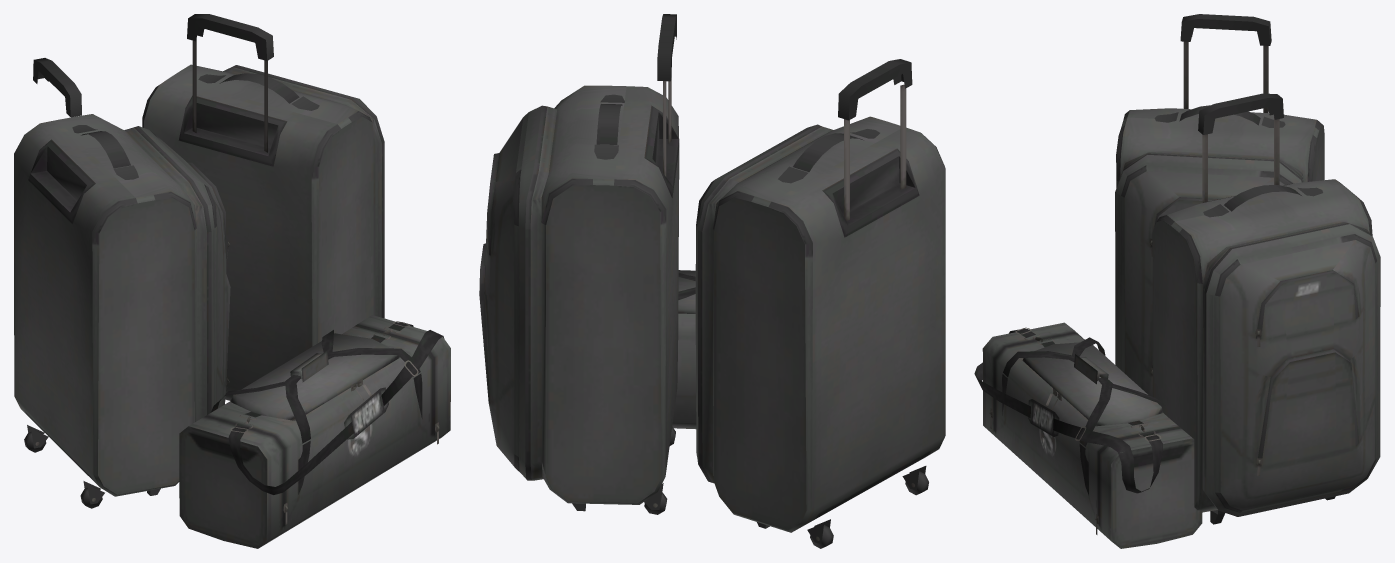
Rendered from ItemSpot.fbx.
The picture shows the model from 3 angles, left to right: view 1: azimuth 30°, elevation 25°; view 2: azimuth 150°, elevation 25°; view 3: azimuth 270°, elevation 25°; orthographic projection. The views are drawn at different scales.
Visible parts, largest first — view 1: ItemBox_Bag_02 (×2), ItemBox_Bag_01; view 2: ItemBox_Bag_02 (×2), ItemBox_Bag_01; view 3: ItemBox_Bag_02 (×2), ItemBox_Bag_01.
Part boxes in pixels (x1=…): ItemBox_Bag_02 (×2): x1=14, y1=14, x2=384, y2=508; ItemBox_Bag_01: x1=179, y1=315, x2=450, y2=548; ItemBox_Bag_02 (×2): x1=479, y1=14, x2=945, y2=548; ItemBox_Bag_01: x1=672, y1=270, x2=696, y2=429; ItemBox_Bag_02 (×2): x1=1115, y1=14, x2=1380, y2=524; ItemBox_Bag_01: x1=974, y1=322, x2=1202, y2=548.
Size of the model in its own units: 1.13 by 1.27 by 1.22.
Materials: 1 (1 with a texture image).
